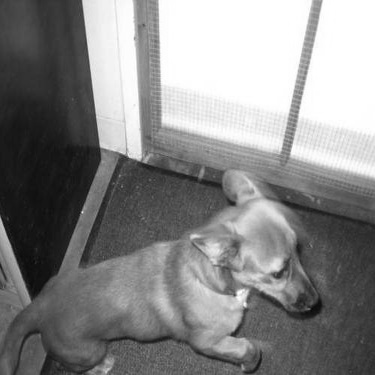dog: (8, 159, 323, 369)
